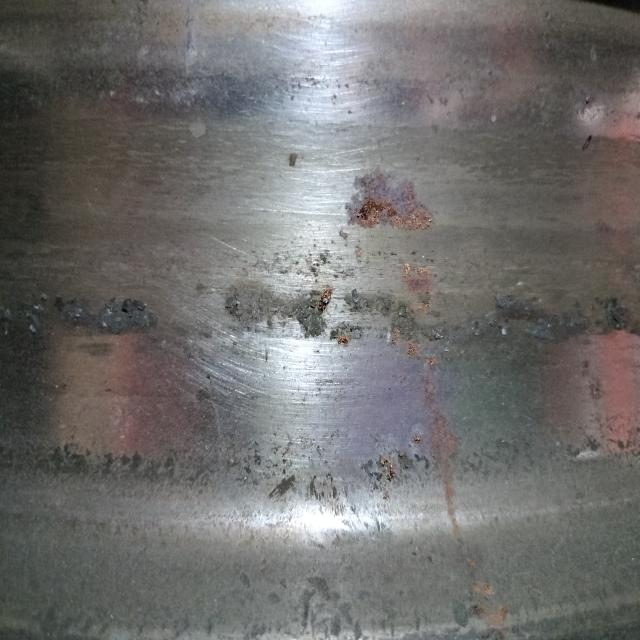flat: (172, 332, 455, 461)
